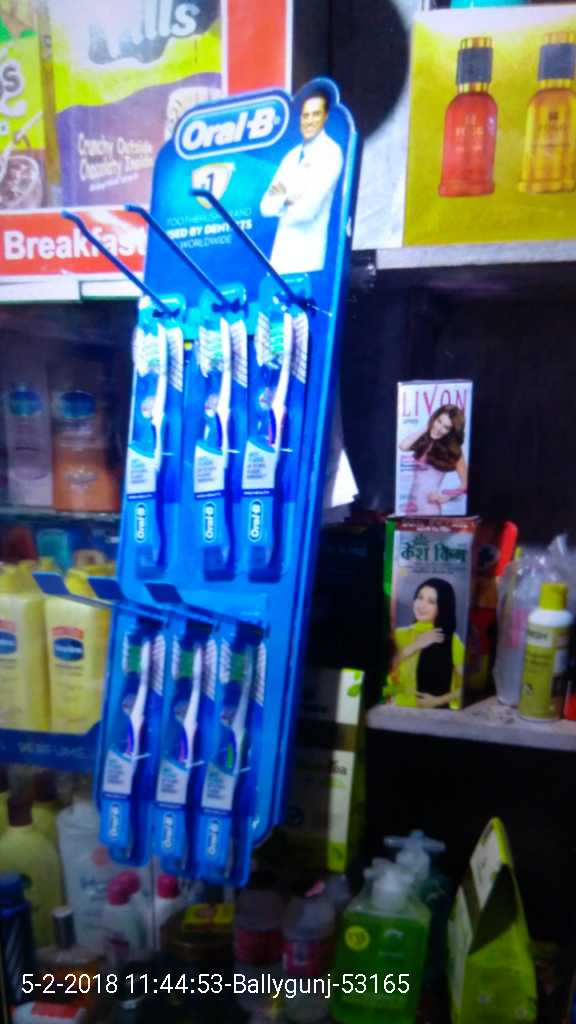oralb: (115, 291, 177, 559), (94, 596, 155, 866), (195, 617, 255, 887), (240, 289, 284, 582), (195, 299, 239, 586)
